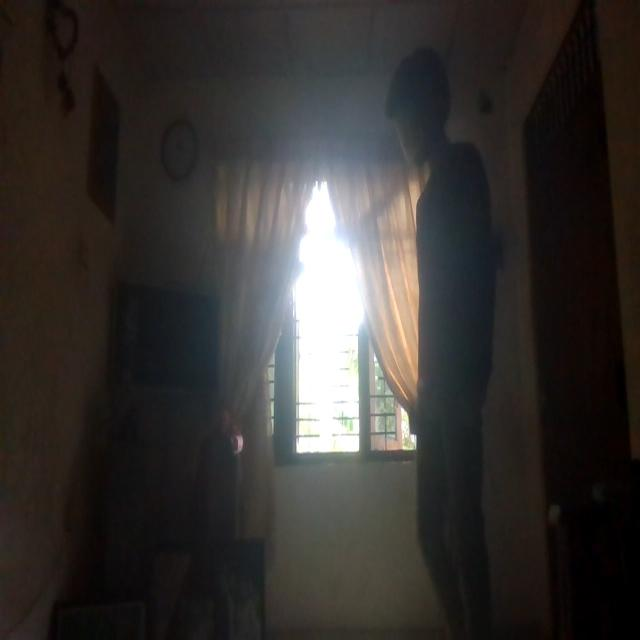Helmet_Wearer: (378, 50, 454, 185)
Person: (392, 53, 516, 640)
